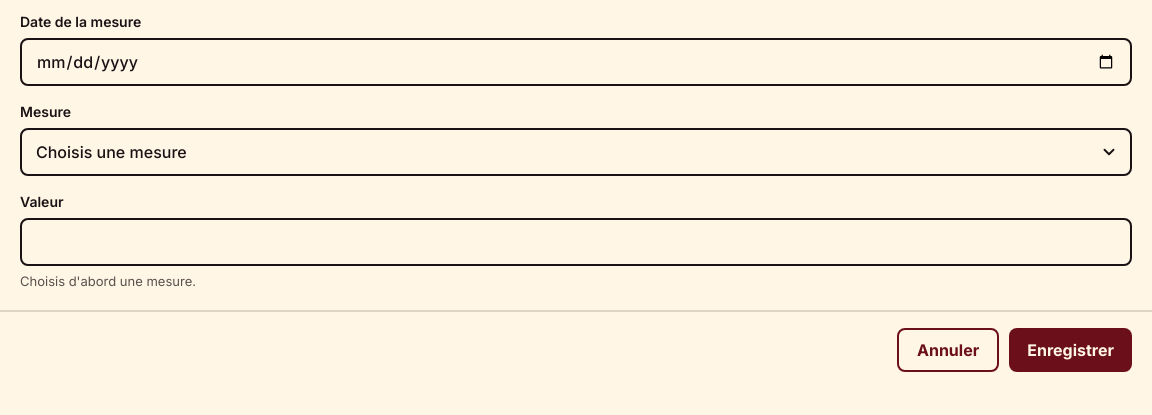
it: AddMeasurementForm › erreurs de champ : sous le champ, aria-invalid, aria-describedby, saisie conservée, focus sur le premier invalide
This screenshot has width=1152, height=415.
Click the button "Enregistrer" at (1071, 350), box [1009,328,1132,372]
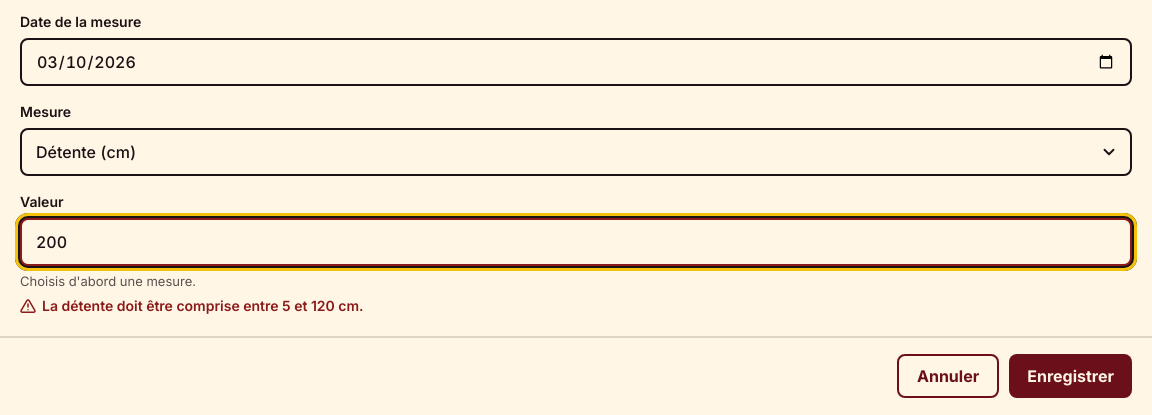
Result: the text "La détente doit être comprise entre 5 et 120 cm." is shown at [20,297,364,314]
Result: the field labelled "Valeur" holds "200" at [20,218,1132,266]
Result: the dropdown labelled "Mesure" shows "Détente (cm)" at [20,128,1132,176]
